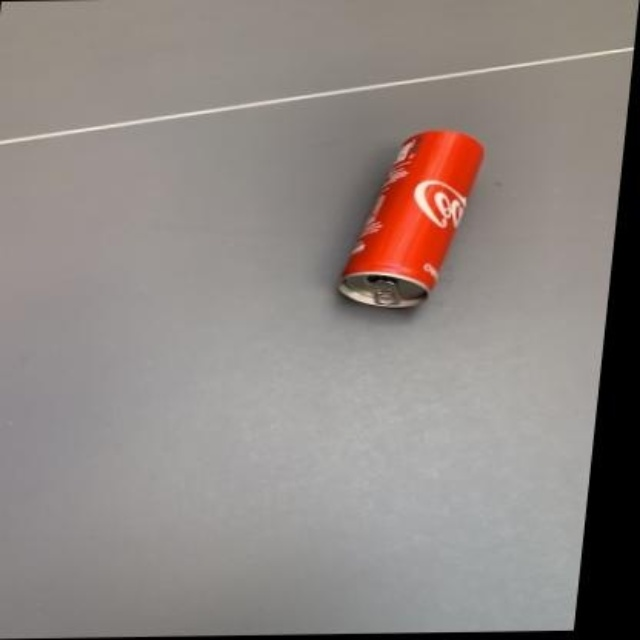trash: (338, 131, 482, 306)
